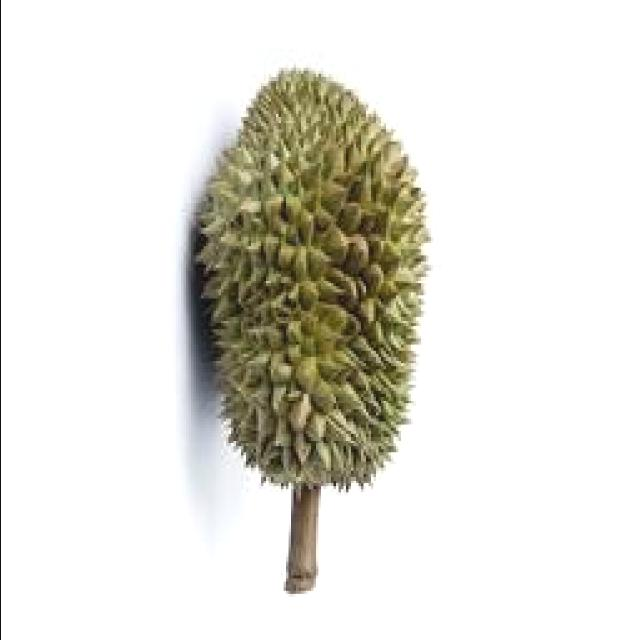non_orange: (185, 62, 450, 508)
